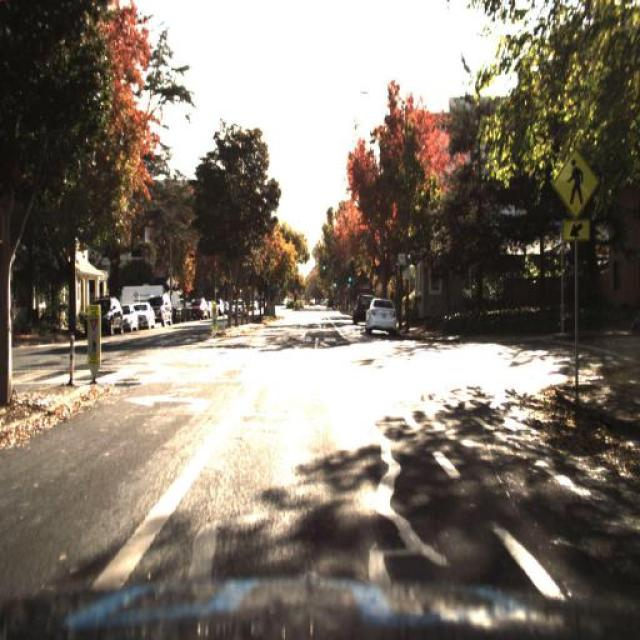car: (366, 294, 399, 330), (96, 293, 122, 336), (115, 298, 139, 333), (154, 287, 173, 327), (134, 301, 156, 328), (187, 294, 208, 320), (351, 292, 365, 324), (123, 304, 137, 332)
trafficLight-Green: (321, 258, 332, 284)
trafficLight-GreenLeft: (346, 259, 356, 287), (330, 266, 340, 290)
trafficLight-YellowLeft: (346, 270, 356, 290), (330, 276, 339, 290)
